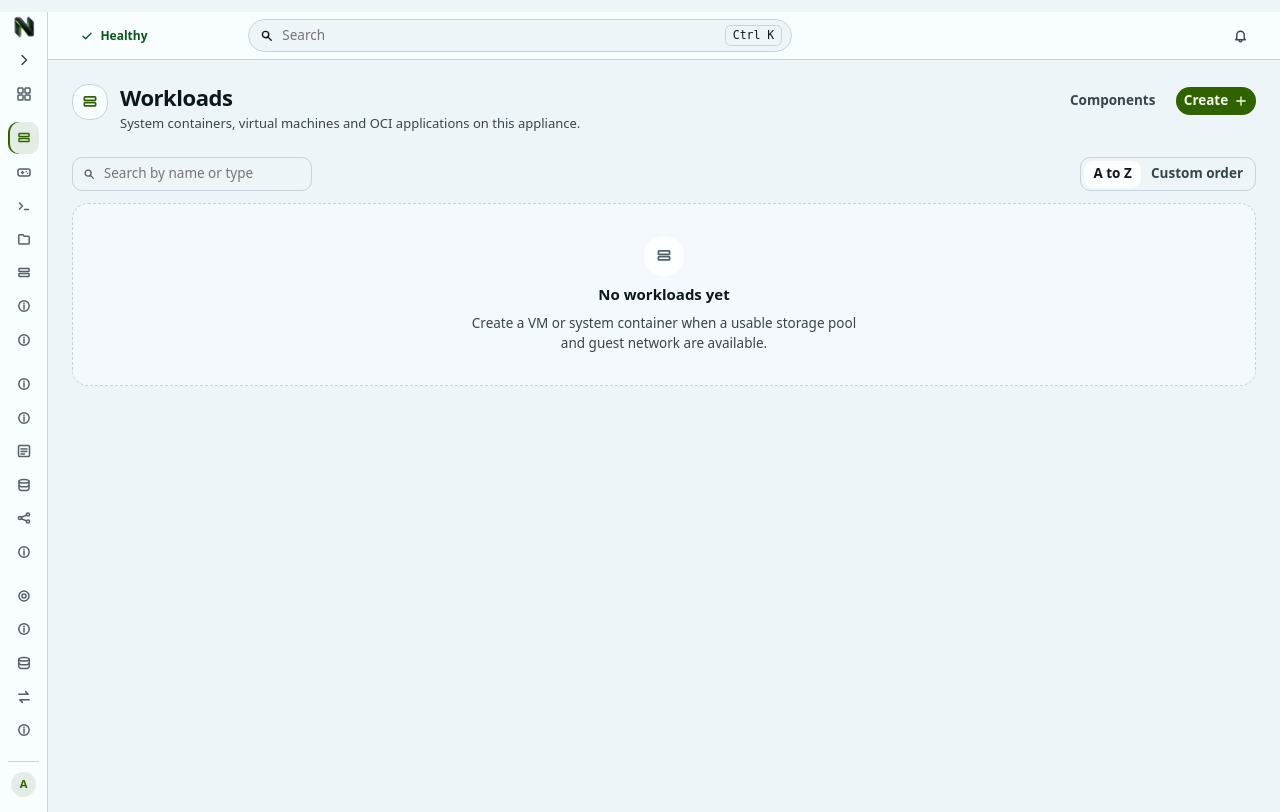
it: App › renders the workloads route without fake counts
Expected: the heading "Workloads" is shown, [120,82,233,112]
Expected: the text "No workloads yet" is shown, [598,284,730,306]
Note: Classic layout: "Create" lists this page's types, the rest behind Show all types.
Step 1. Click the button "Create" → (1216, 101), box [1176,87,1256,115]
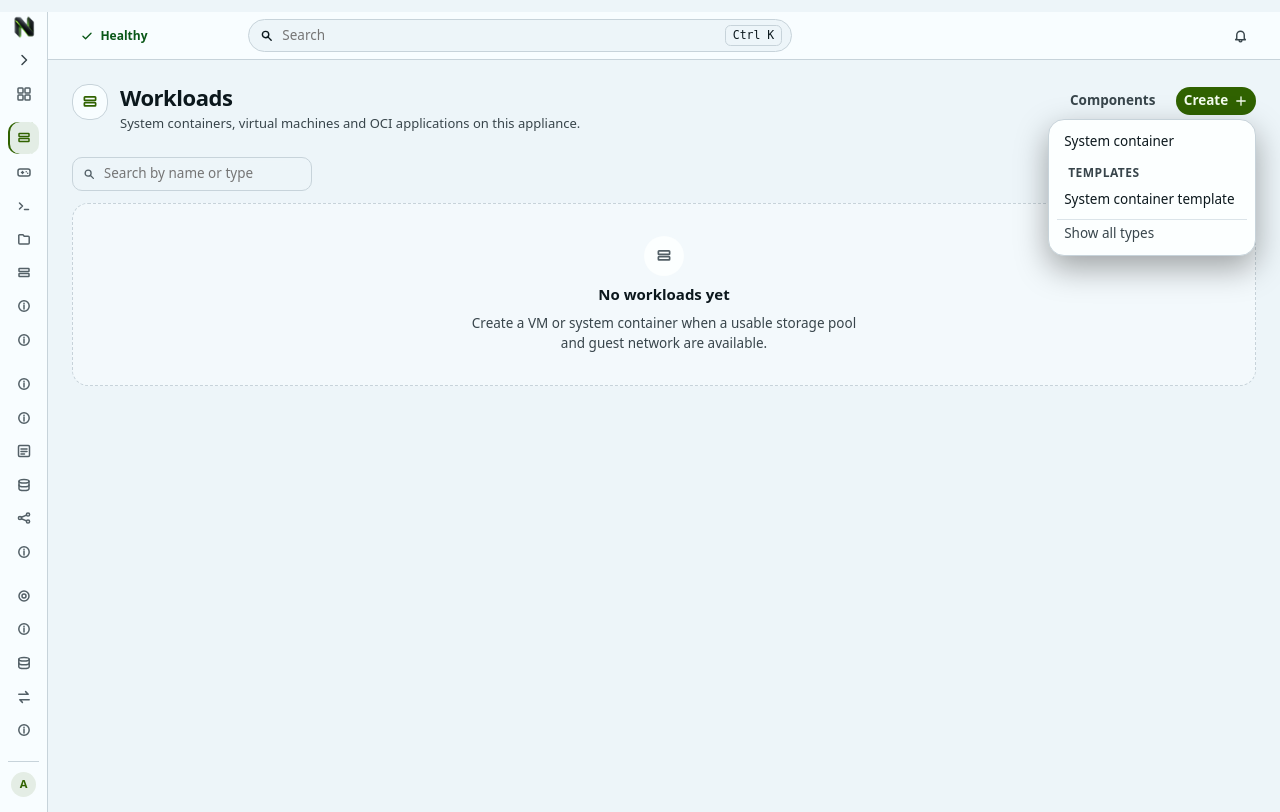
Result: the menu item "System container" is shown at [1064,132,1174,150]
Step 2. Click the menu item "Show all types" → (1152, 233), box [1057,219,1247,246]
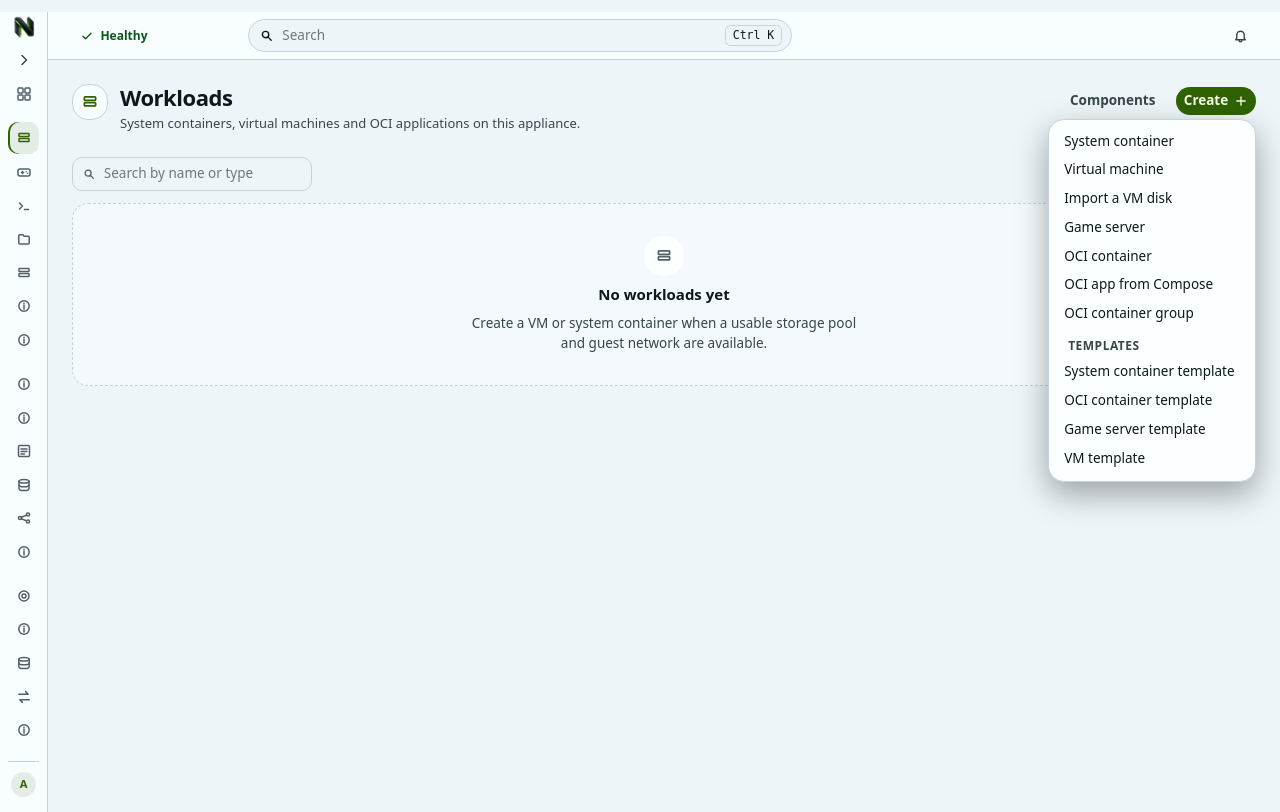
Result: the menu item "Virtual machine" is shown at [1064,160,1164,178]
